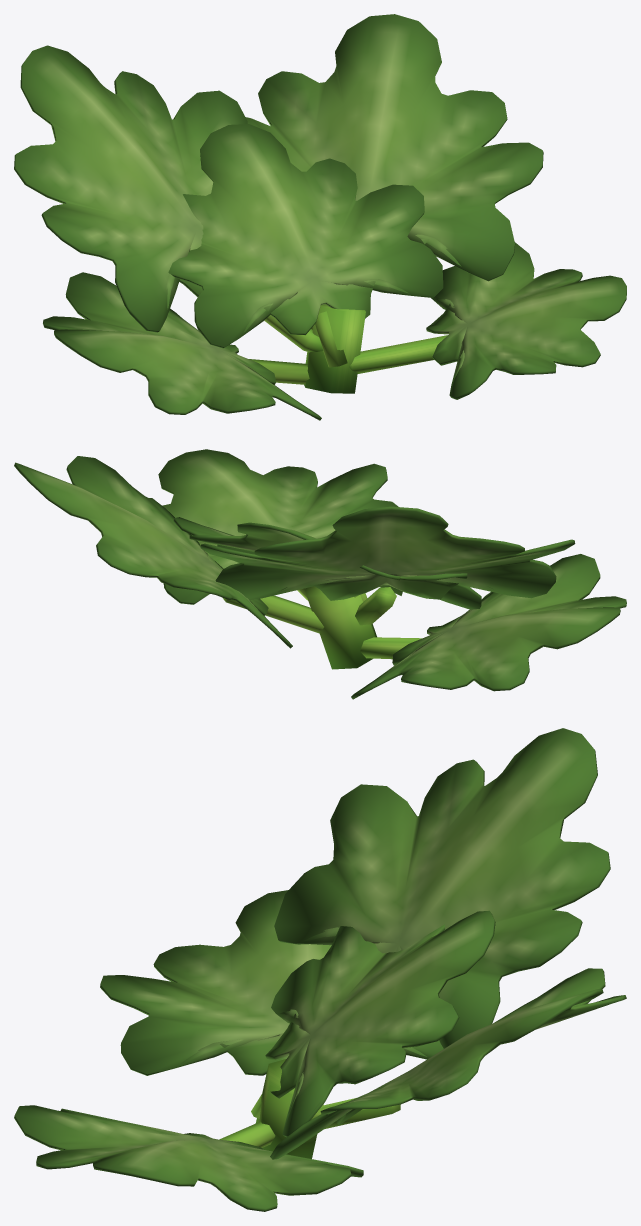
The model's file is NP_Zucchini_Young_LOD1.fbx.
The picture shows the model from 3 angles, top to bottom: view 1: azimuth 30°, elevation 25°; view 2: azimuth 150°, elevation 25°; view 3: azimuth 270°, elevation 25°; orthographic projection. The views are drawn at different scales.
Visible parts, largest first — view 1: NP_Zucchini_Young; view 2: NP_Zucchini_Young; view 3: NP_Zucchini_Young.
Part boxes in pixels (bbox=[...]): NP_Zucchini_Young: bbox=[14, 14, 626, 420]; NP_Zucchini_Young: bbox=[14, 449, 626, 699]; NP_Zucchini_Young: bbox=[14, 728, 626, 1211].
Size of the model in its own units: 42.29 by 23.14 by 38.8.
